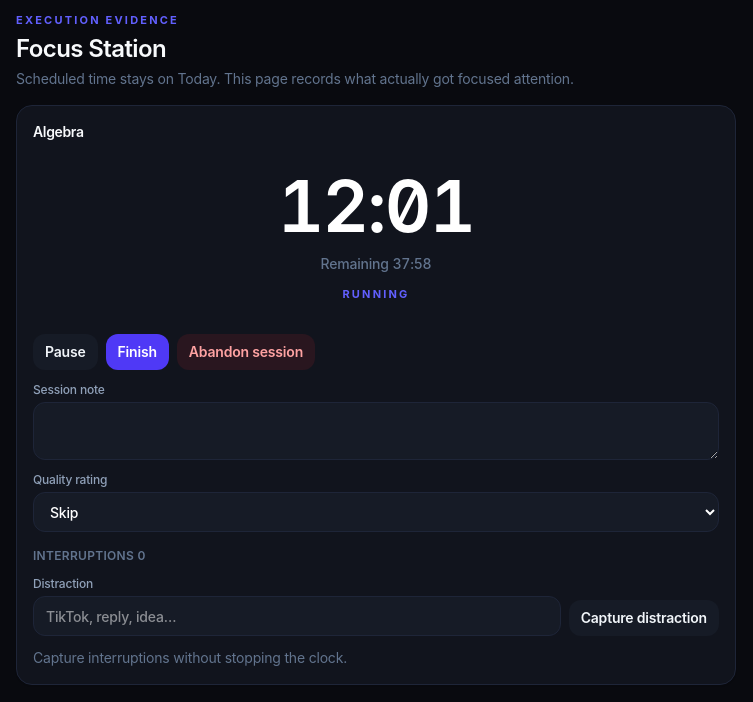
Scenario: pauses, resumes, finishes and abandons through the controls
Expected: the heading "Focus Station" is shown, left=16, top=34, right=166, bottom=62
Click the button "Pause": (65, 352) left=33, top=334, right=98, bottom=370
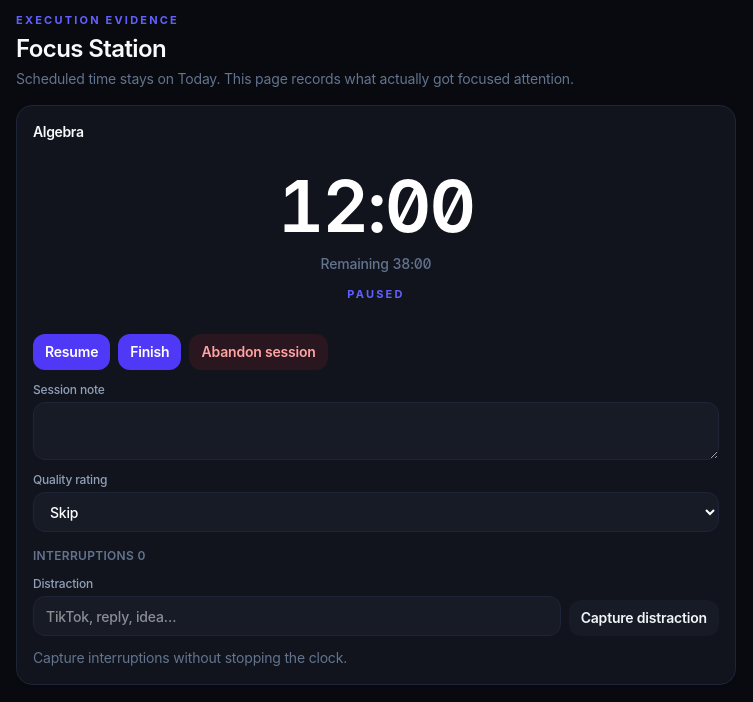
Result: the button "Resume" is shown
Click the button "Resume": (72, 352) left=33, top=334, right=110, bottom=370
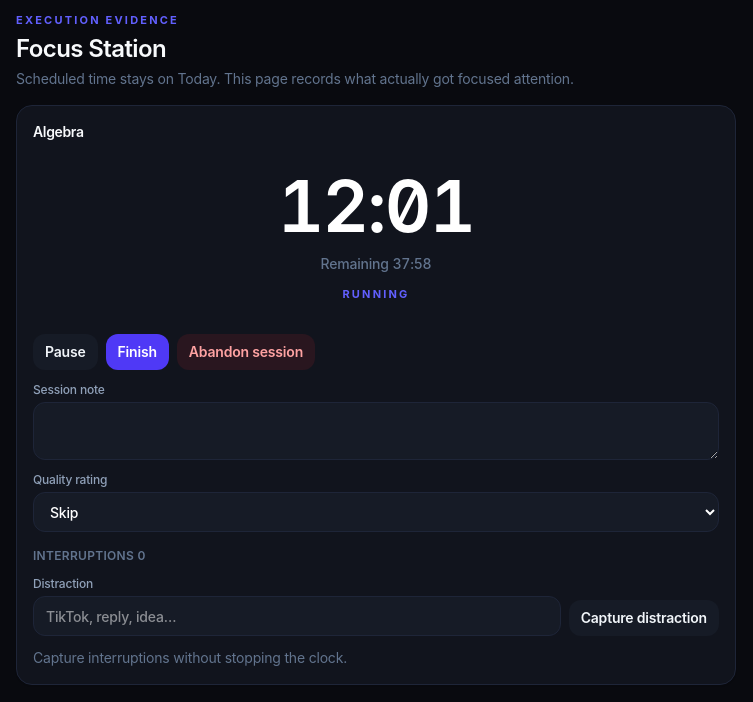
Click the button "Finish": (137, 352) left=106, top=334, right=169, bottom=370
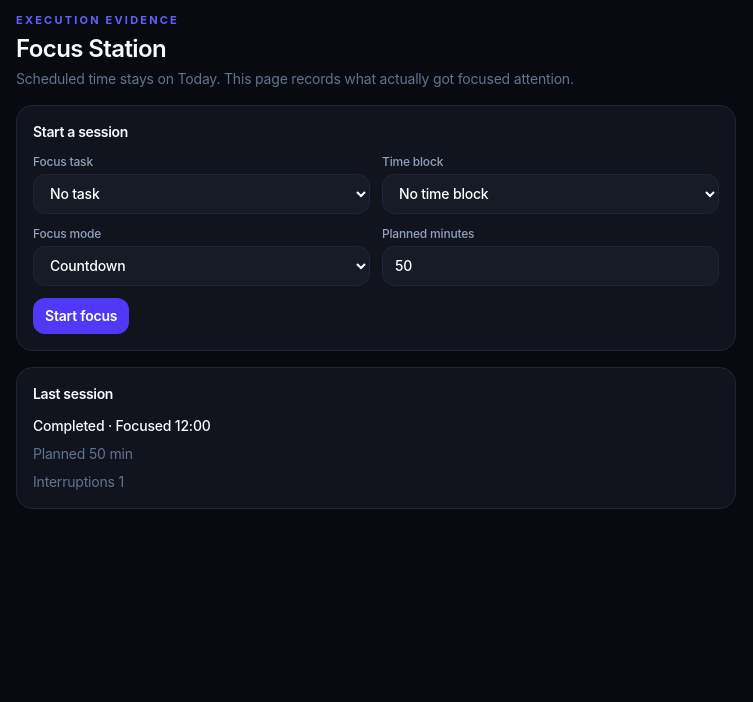
Result: the text "Completed · Focused 12:00" is shown at left=33, top=416, right=211, bottom=434
